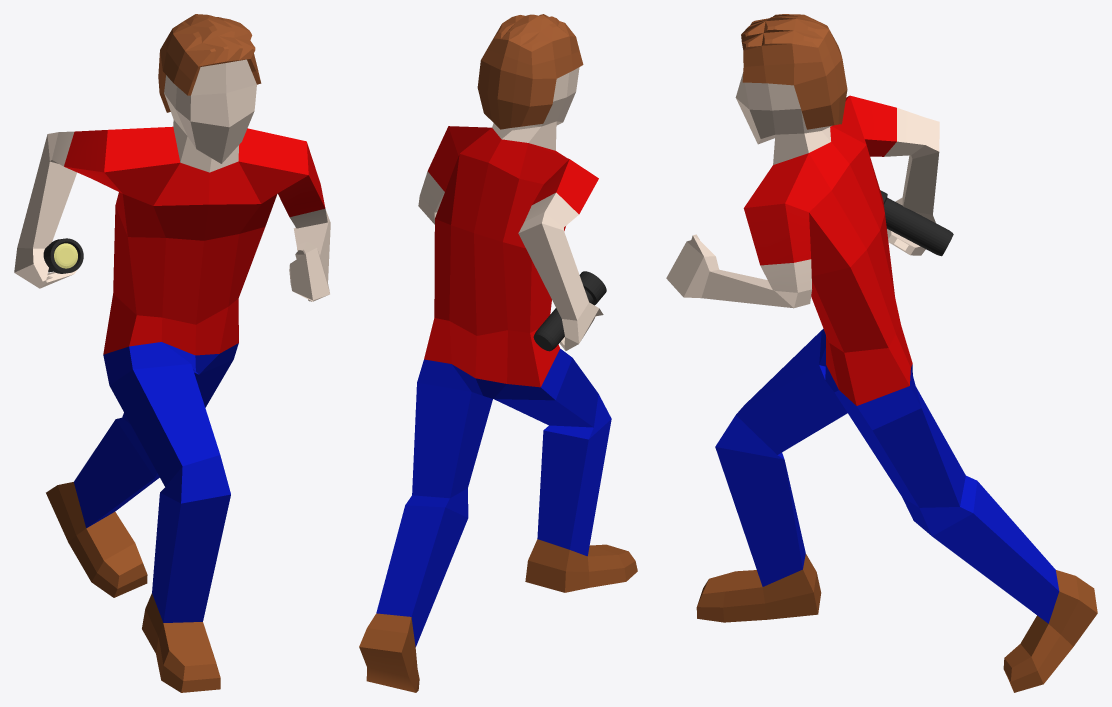
File: Human_running_14.fbx
3 renders of one model, left to right at view 1: azimuth 30°, elevation 25°; view 2: azimuth 150°, elevation 25°; view 3: azimuth 270°, elevation 25°, orthographic. The views are drawn at different scales.
Visible parts, largest first — view 1: Person.004, Flashlight; view 2: Person.004, Flashlight; view 3: Person.004, Flashlight.
Part boxes in pixels (left/top/right/bottom): Person.004: left=14, top=14, right=330, bottom=692; Flashlight: left=43, top=238, right=83, bottom=273; Person.004: left=359, top=14, right=637, bottom=692; Flashlight: left=533, top=271, right=606, bottom=351; Person.004: left=666, top=14, right=1097, bottom=692; Flashlight: left=880, top=190, right=953, bottom=256.
Bounding box in the file's own units: 0.6088 × 1.55 × 0.9265.
